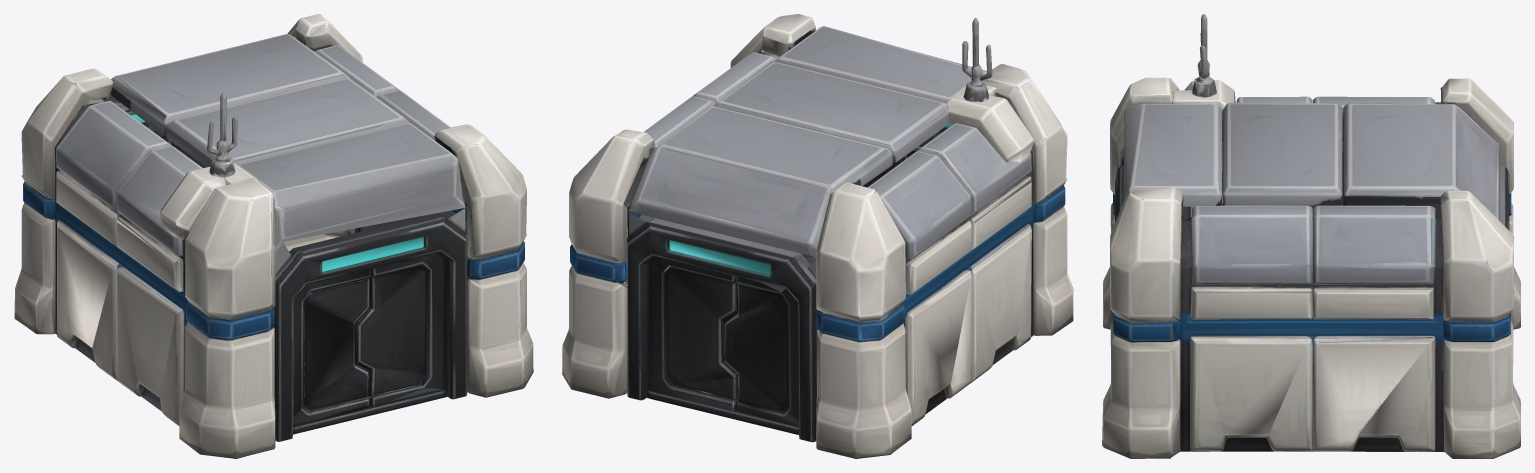
The model's file is barracks.glb.
3 views of the same model, side by side, from view 1: azimuth 30°, elevation 25°; view 2: azimuth 150°, elevation 25°; view 3: azimuth 270°, elevation 25° (orthographic).
Bounding box in the file's own units: 0.8672 × 0.793 × 0.9541.
Materials: 1 (1 with a texture image).
